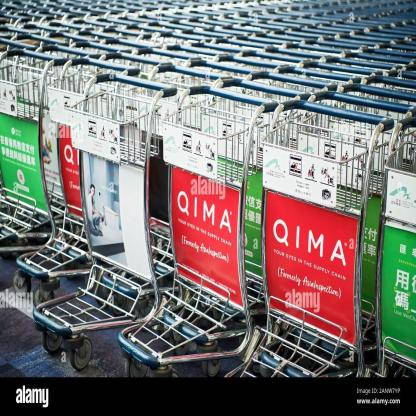airport-trolley: (220, 98, 395, 380), (117, 85, 278, 379), (31, 74, 177, 374)
